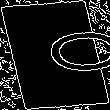O_W: (5, 30, 105, 80)
